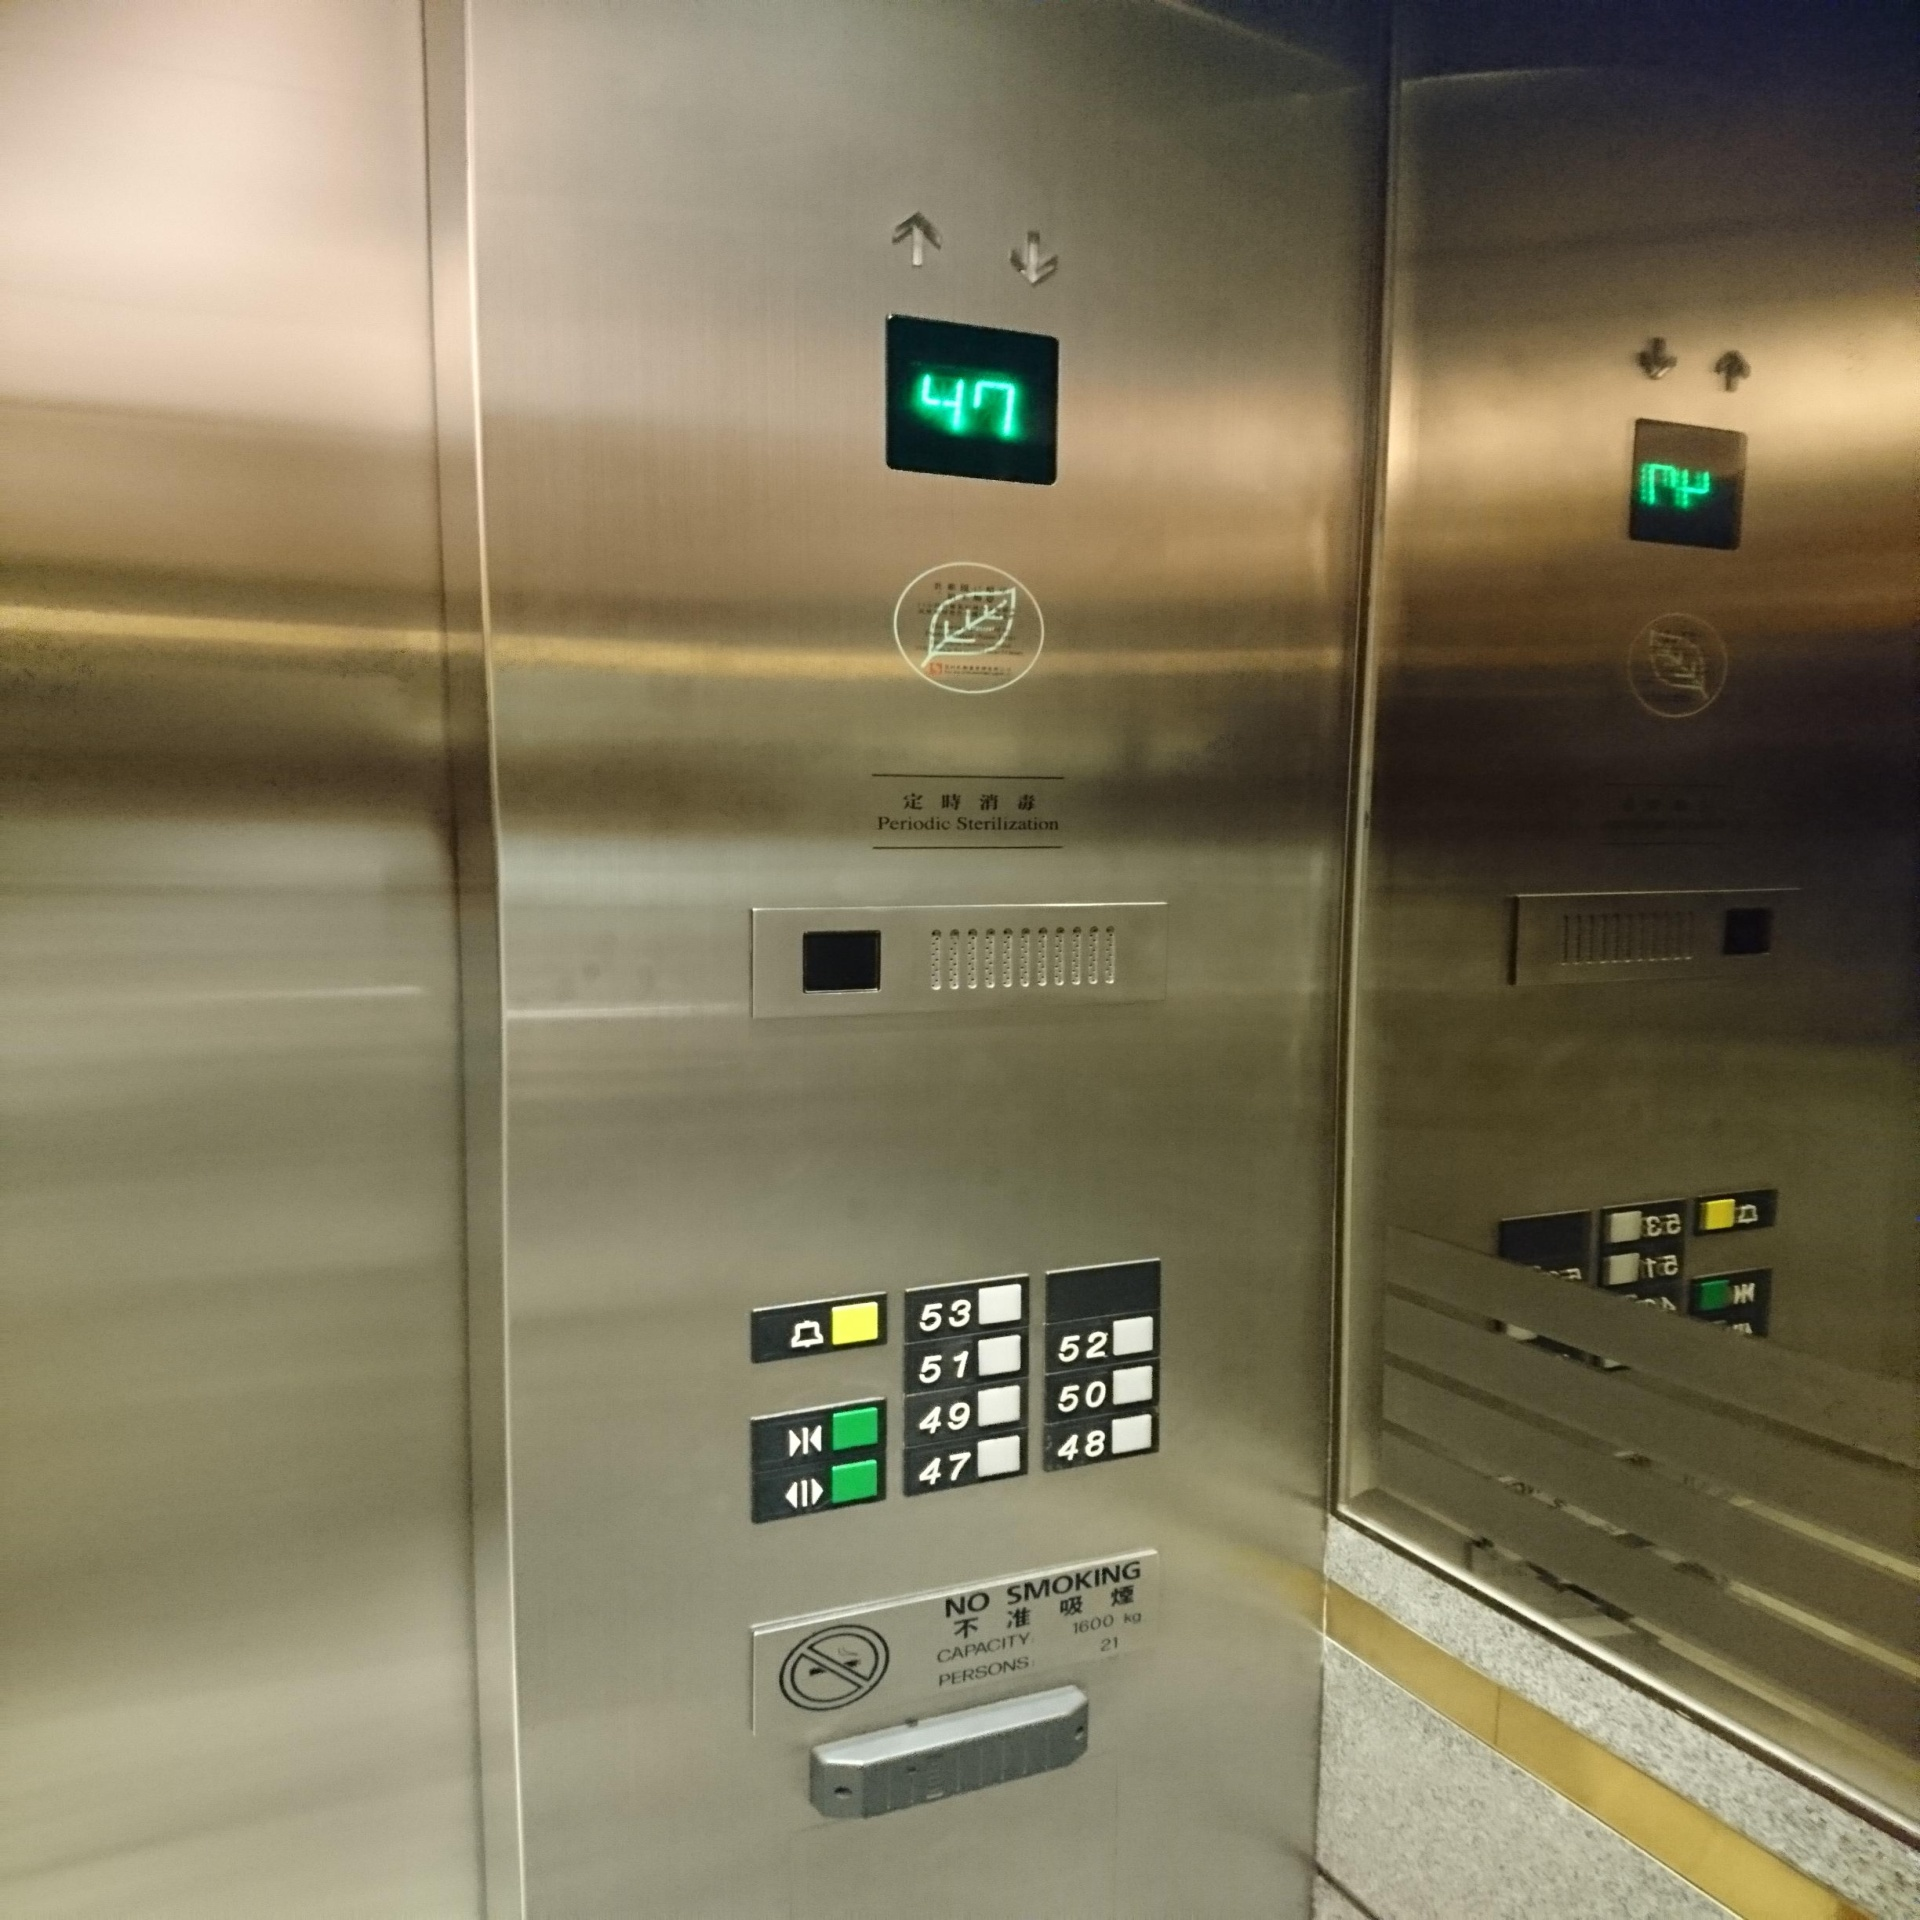47: (900, 1428, 1032, 1496)
48: (1044, 1408, 1162, 1473)
49: (904, 1377, 1032, 1447)
50: (1043, 1357, 1162, 1424)
51: (900, 1327, 1034, 1394)
52: (1043, 1312, 1164, 1375)
53: (900, 1268, 1030, 1343)
alarm: (749, 1289, 890, 1364), (1697, 1185, 1783, 1240)
close: (751, 1393, 890, 1472), (1693, 1268, 1778, 1315)
led: (881, 304, 1067, 487), (1628, 411, 1748, 556)
open: (751, 1456, 891, 1526)
unknown: (1602, 1197, 1688, 1243), (1598, 1245, 1691, 1287)
